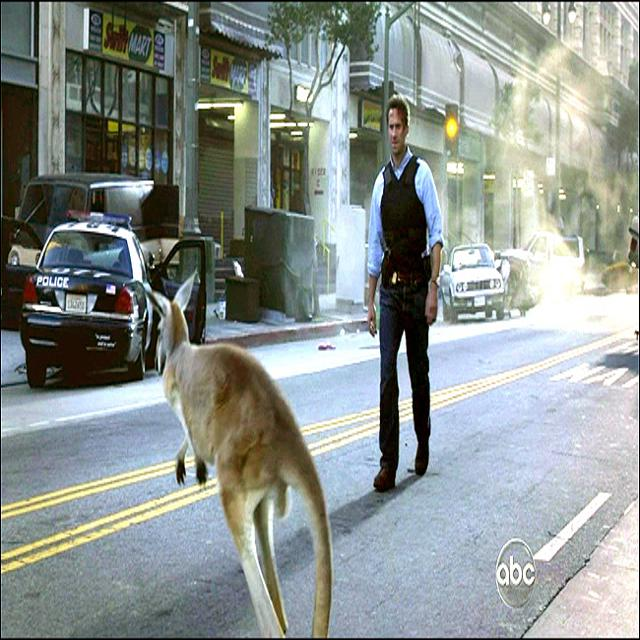kangaroo: (134, 275, 307, 633)
